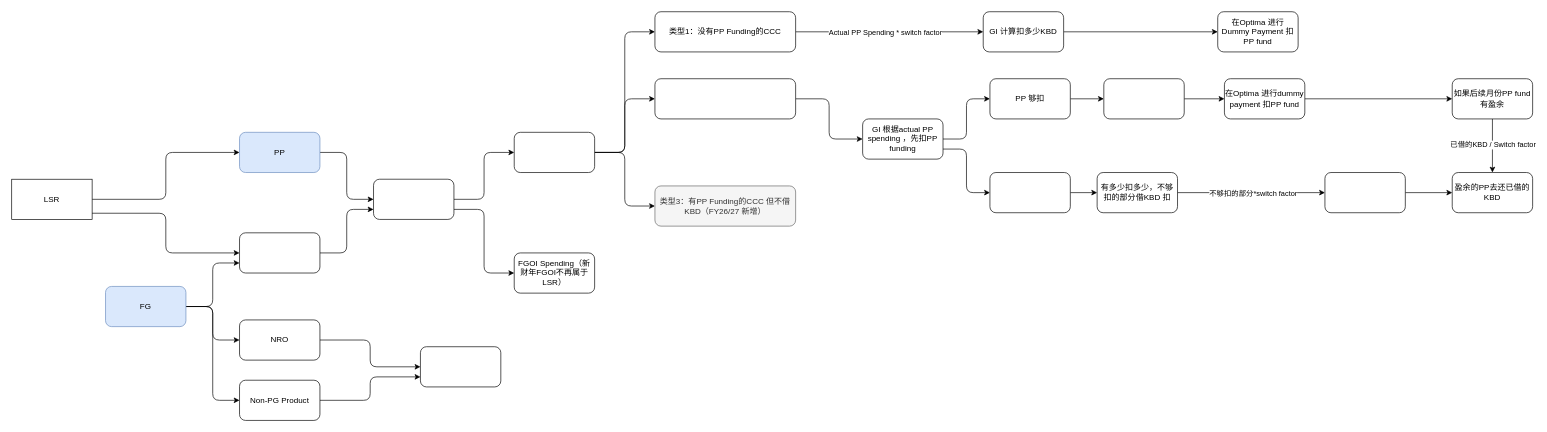
The diagram is 1547 pixels wide and 432 high, and some of its shapes have lost their labels. Each missing label, with the centre of its shape:
FGOI: point 279,252
LSR Actual report/fact data: point 413,199
PP Actual Spending: point 554,152
PP 不够扣: point 1029,192
WISE: point 460,366
借KBD 的钱，在Optima 进行dummy payment 扣KBD: point 1364,192
有多少扣多少，剩余的PP funding 累积到下个月: point 1143,98
类型2：有PP Funding的CCC可借KBD: point 725,98
